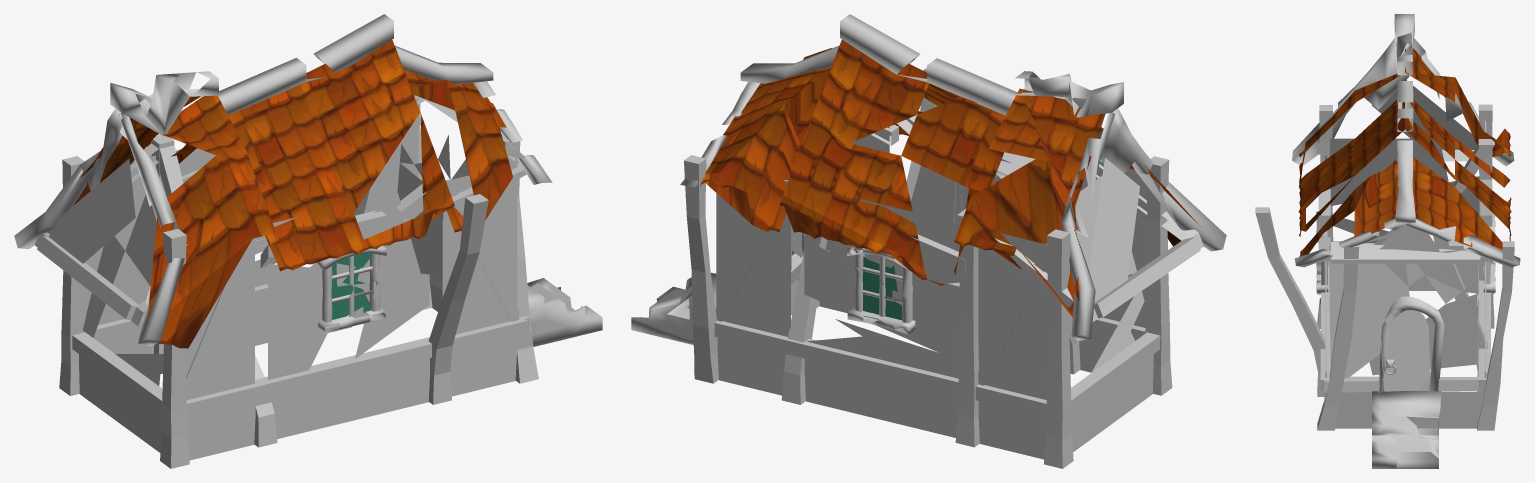
Rendered from house1_after.fbx.
3 views of the same model, side by side, from view 1: azimuth 30°, elevation 25°; view 2: azimuth 150°, elevation 25°; view 3: azimuth 270°, elevation 25° (orthographic). The views are drawn at different scales.
Visible parts, largest first — view 1: TopTileMidS.002; view 2: TopTileMidS.002; view 3: TopTileMidS.002.
Boxes of the visible parts, x1=… form: TopTileMidS.002: x1=14, y1=14, x2=602, y2=468; TopTileMidS.002: x1=631, y1=14, x2=1226, y2=468; TopTileMidS.002: x1=1255, y1=14, x2=1520, y2=468.
Bounding box in the file's own units: 15369 × 9975 × 8689.
